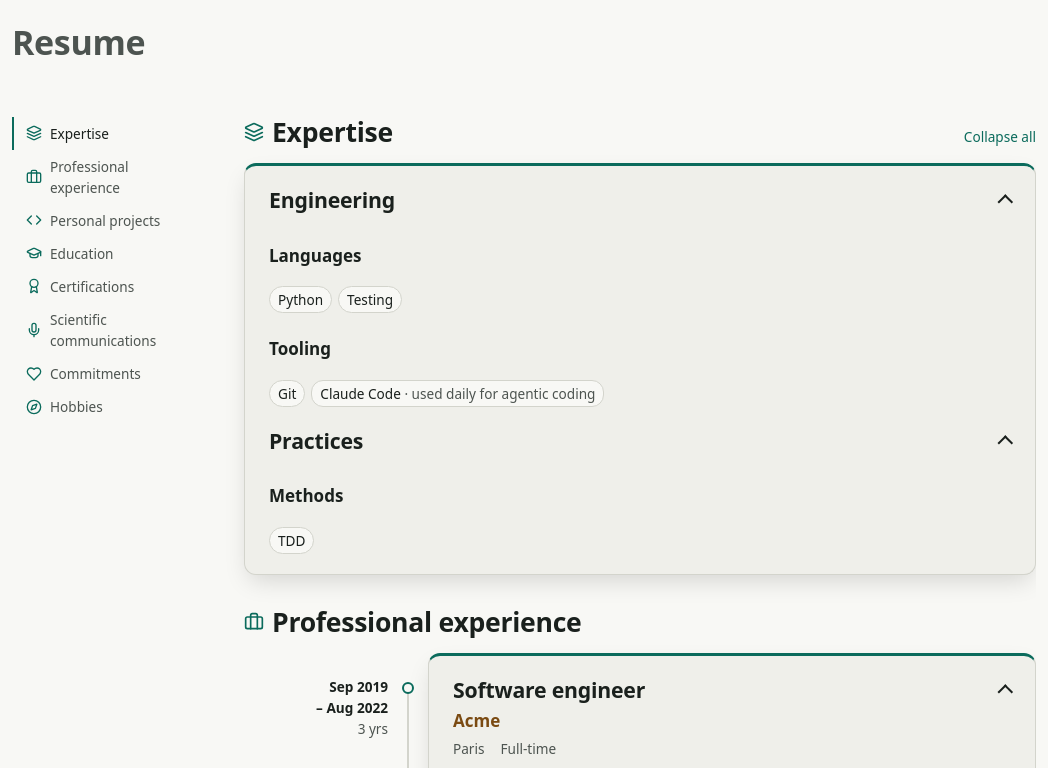
Scenario: ResumePage › shows the categories of every domain once loaded, and hides them when its title is clicked
This screenshot has width=1048, height=768.
Expected: the list named "Languages" is shown, [269,286,402,313]
Expected: the list named "Methods" is shown, [269,527,314,554]
Click the button "Engineering". click: (332, 200)
box: [269,186,1011,214]
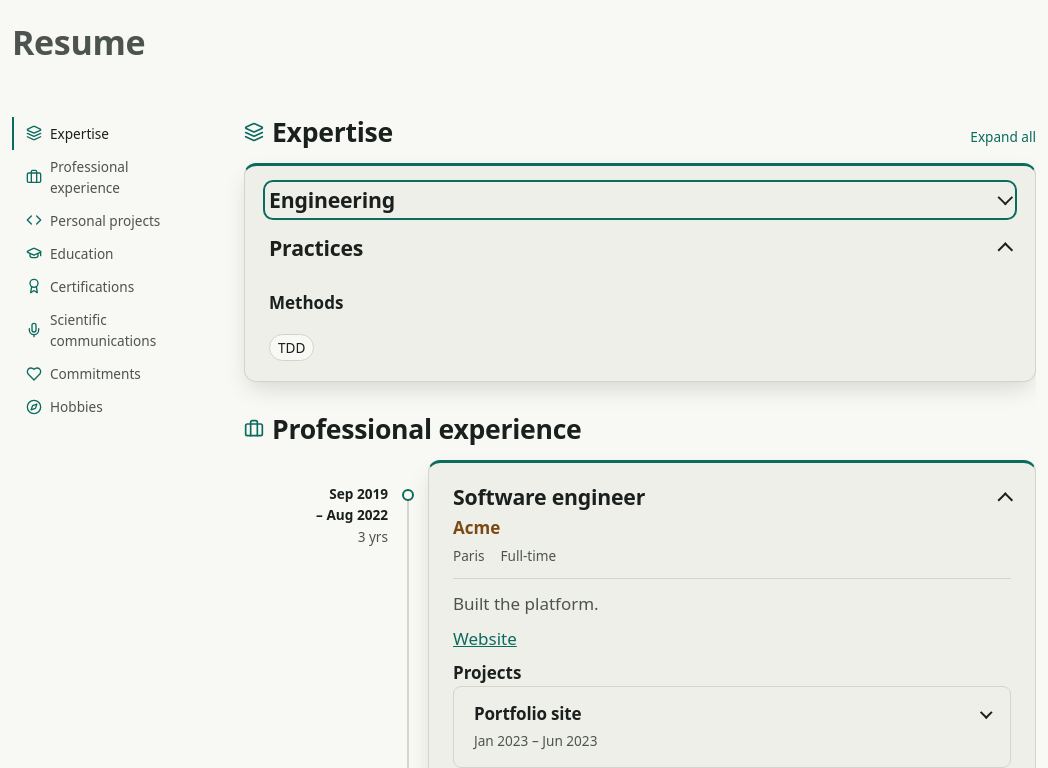
Expected: the list named "Methods" is shown, [269,334,314,361]
Expected: the button "Engineering" is collapsed, [269,186,1011,214]
Expected: the text "Languages" is gone
